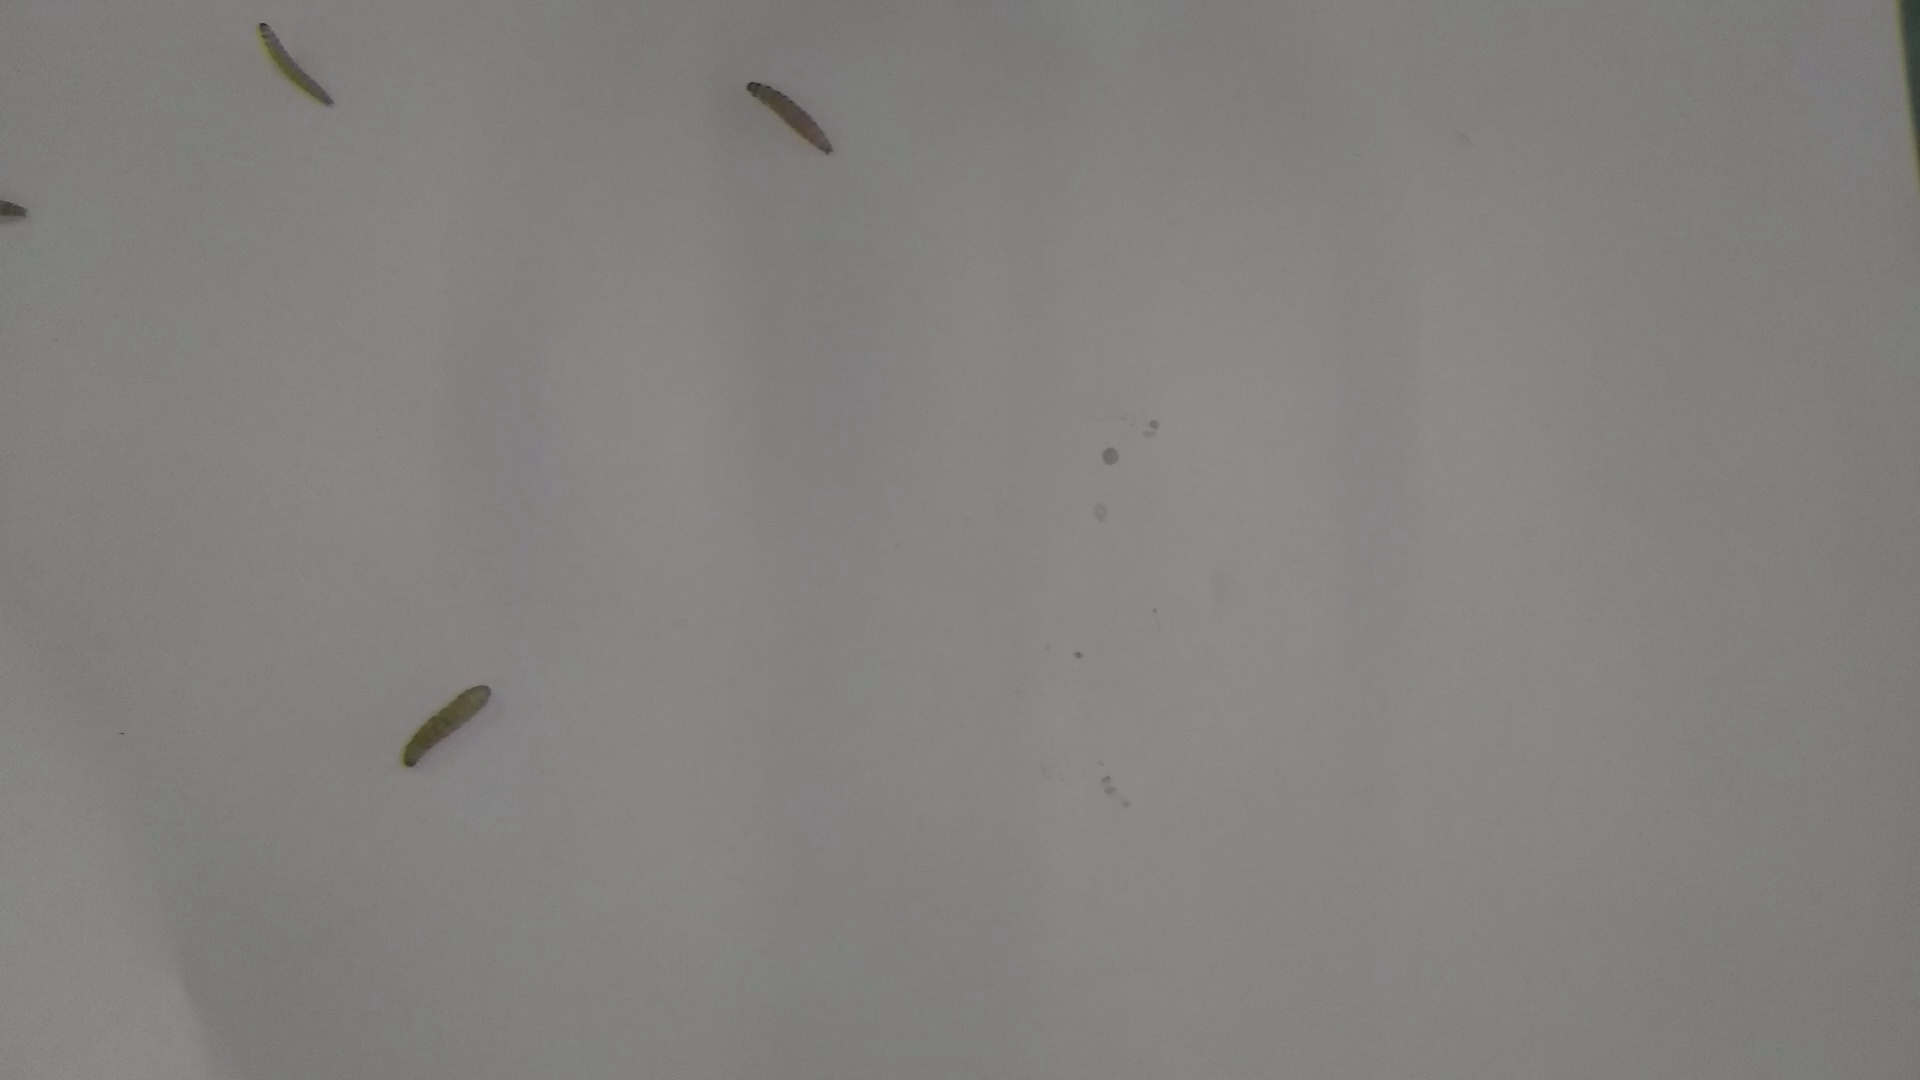efsb: (401, 679, 498, 771), (736, 80, 837, 160), (257, 18, 334, 105)
